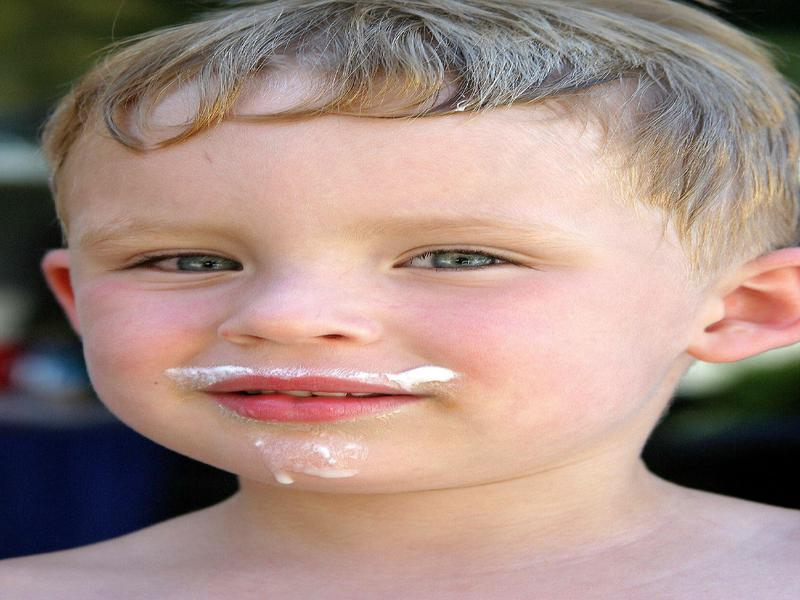person: (35, 2, 800, 589)
